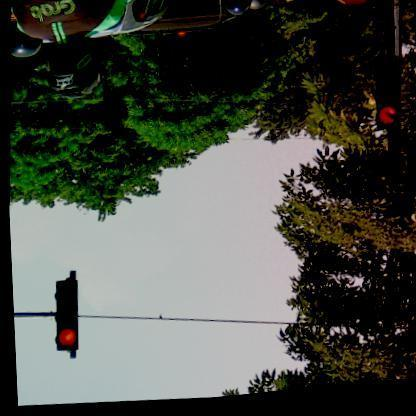red: (371, 60, 401, 138), (48, 279, 78, 353)
